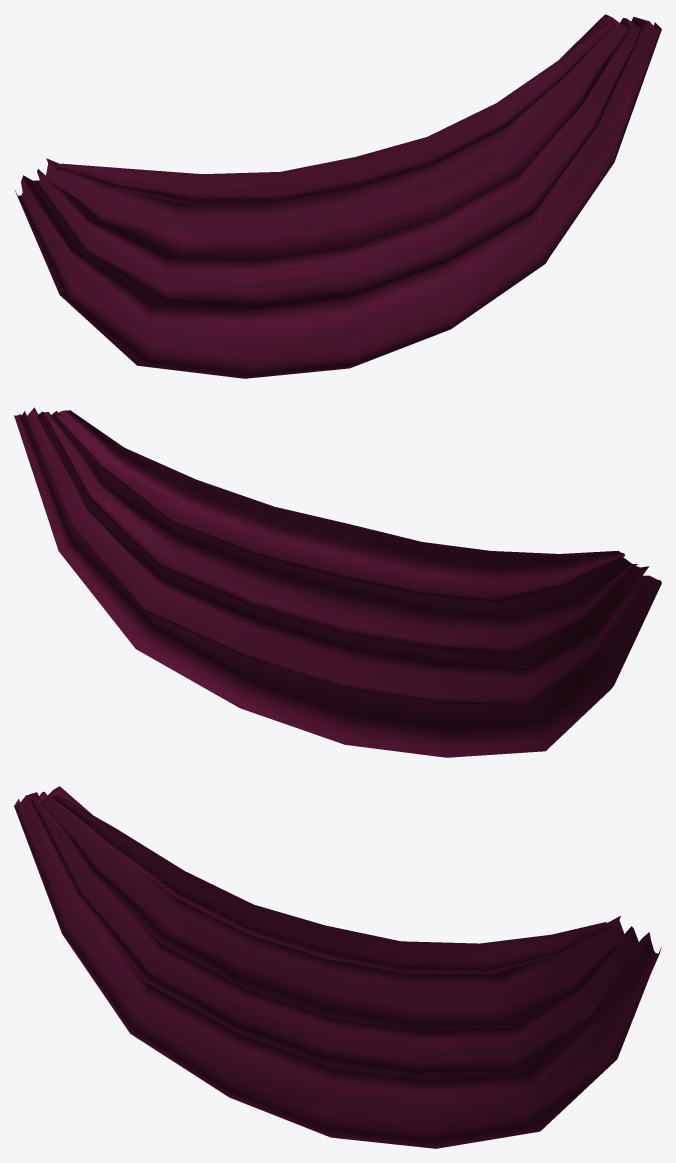
Rendered from Curtain_DroopyPiece.fbx.
3 views of the same model, one above another, from view 1: azimuth 30°, elevation 25°; view 2: azimuth 150°, elevation 25°; view 3: azimuth 330°, elevation 25° (orthographic).
Parts seen in each view (by area): view 1: CurtainDroopyPiece; view 2: CurtainDroopyPiece; view 3: CurtainDroopyPiece.
Part boxes in pixels (box(x1,y1,x2,y2)): CurtainDroopyPiece: box(15, 14, 661, 378); CurtainDroopyPiece: box(14, 407, 661, 757); CurtainDroopyPiece: box(14, 786, 661, 1148).
Bounding box in the file's own units: 216 × 88.46 × 14.63.
